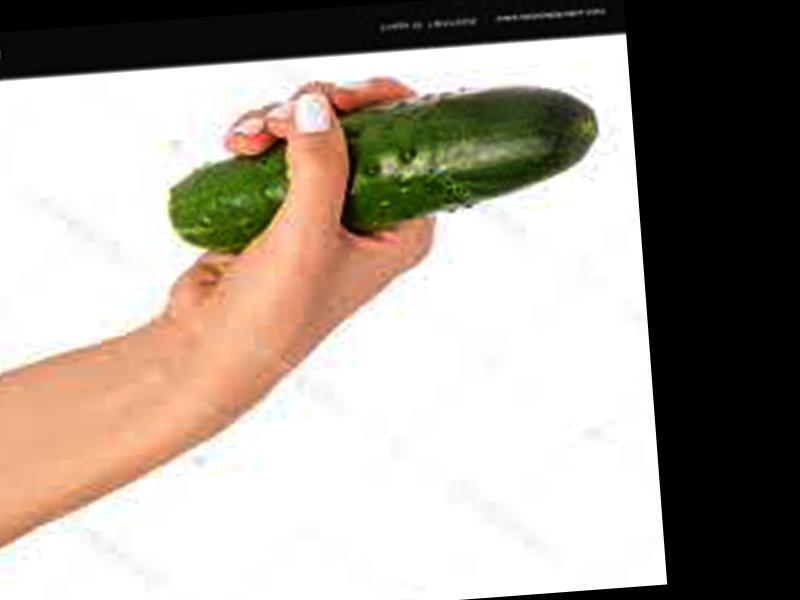Cucumber: (164, 80, 608, 253)
